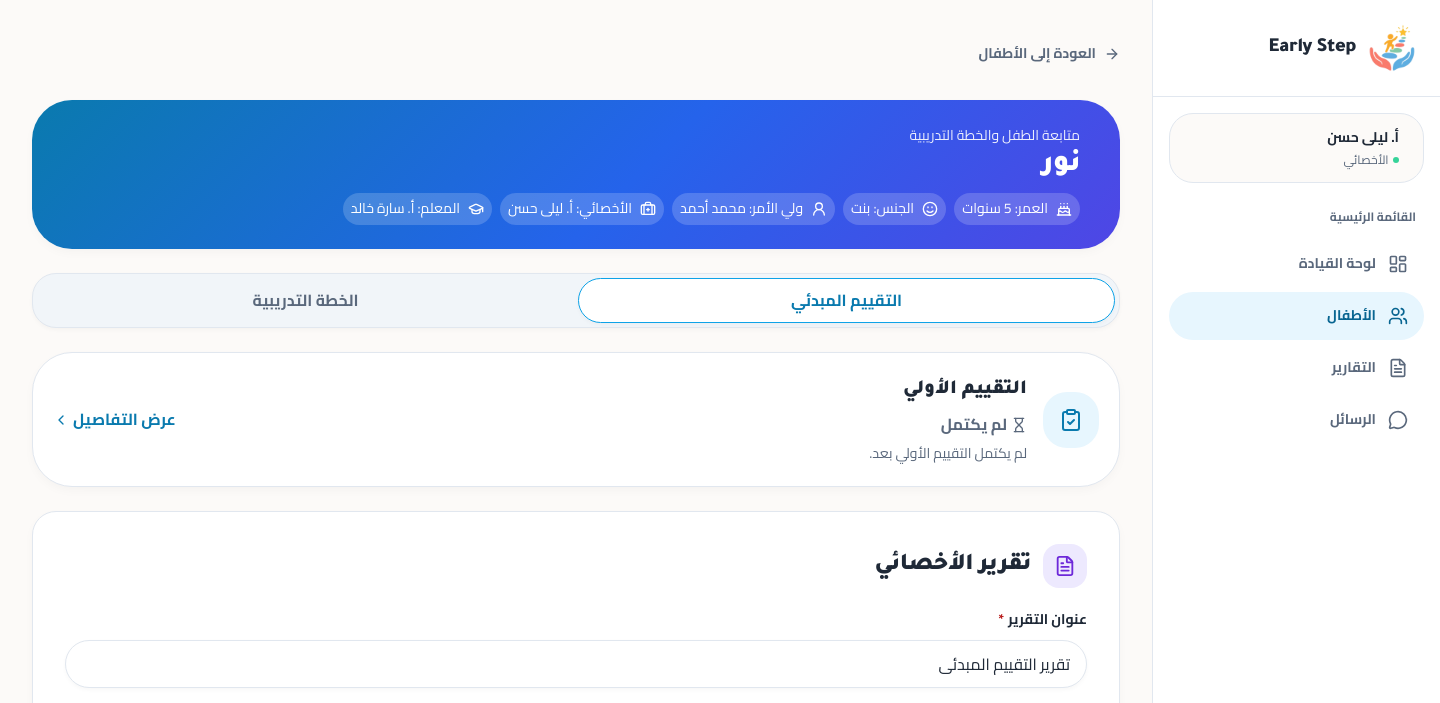
Scenario: Specialist child file — part 4 › gates the training plan until assessment completion
This screenshot has width=1440, height=703.
Click the tab "الخطة التدريبية". click: (306,301)
box: [37,278,574,323]
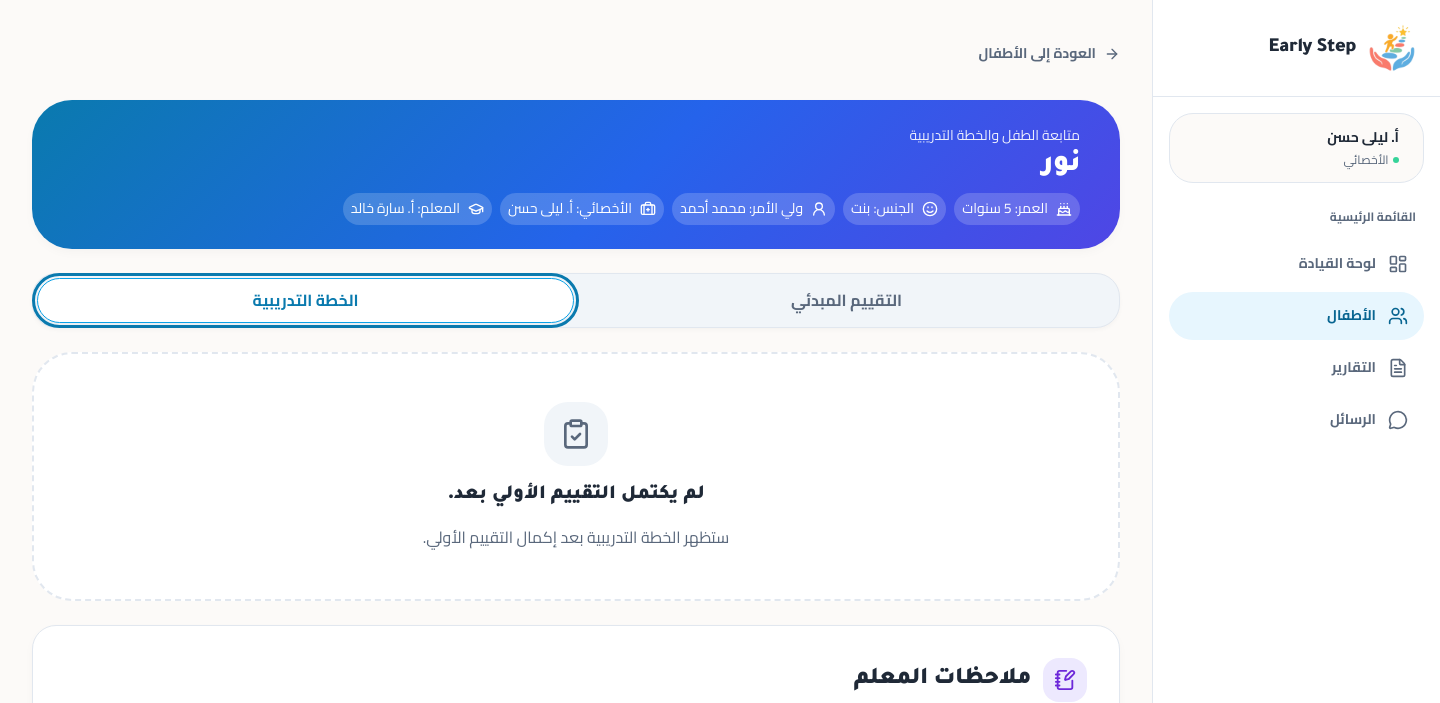
Now the text "ستظهر الخطة التدريبية بعد إكمال التقييم الأولي." is shown, box [423,524,729,552]
